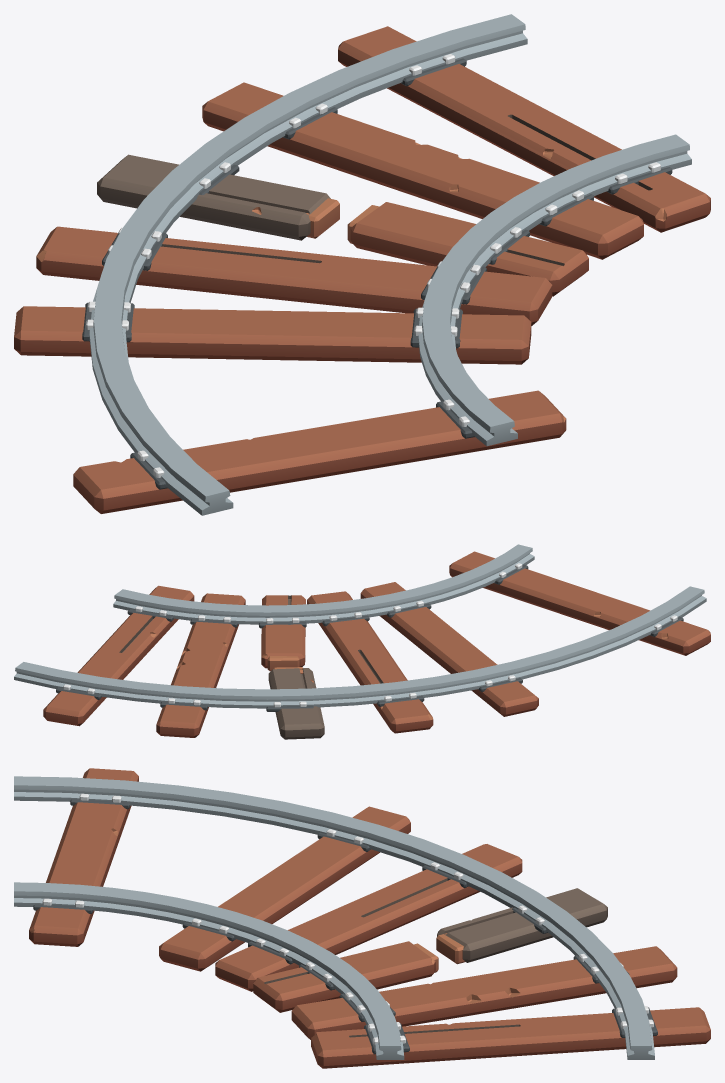
The model's file is rail_track_curve.glb.
3 renders of one model, top to bottom at view 1: azimuth 30°, elevation 25°; view 2: azimuth 150°, elevation 25°; view 3: azimuth 270°, elevation 25°, orthographic. The views are drawn at different scales.
Parts seen in each view (by area): view 1: rail_track_curve; view 2: rail_track_curve; view 3: rail_track_curve.
Part boxes in pixels (bbox=[...]): rail_track_curve: bbox=[14, 14, 710, 515]; rail_track_curve: bbox=[14, 544, 710, 739]; rail_track_curve: bbox=[14, 768, 710, 1068].
Size of the model in its own units: 2.76 by 0.1372 by 2.78.
1 material, 1 textured.
